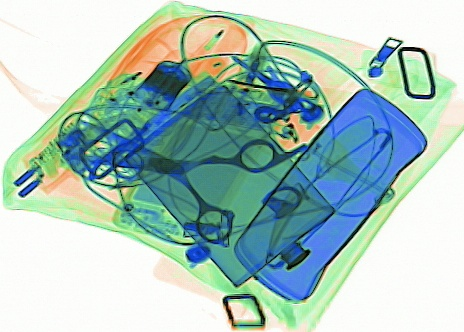scissors: (63, 116, 308, 245)
